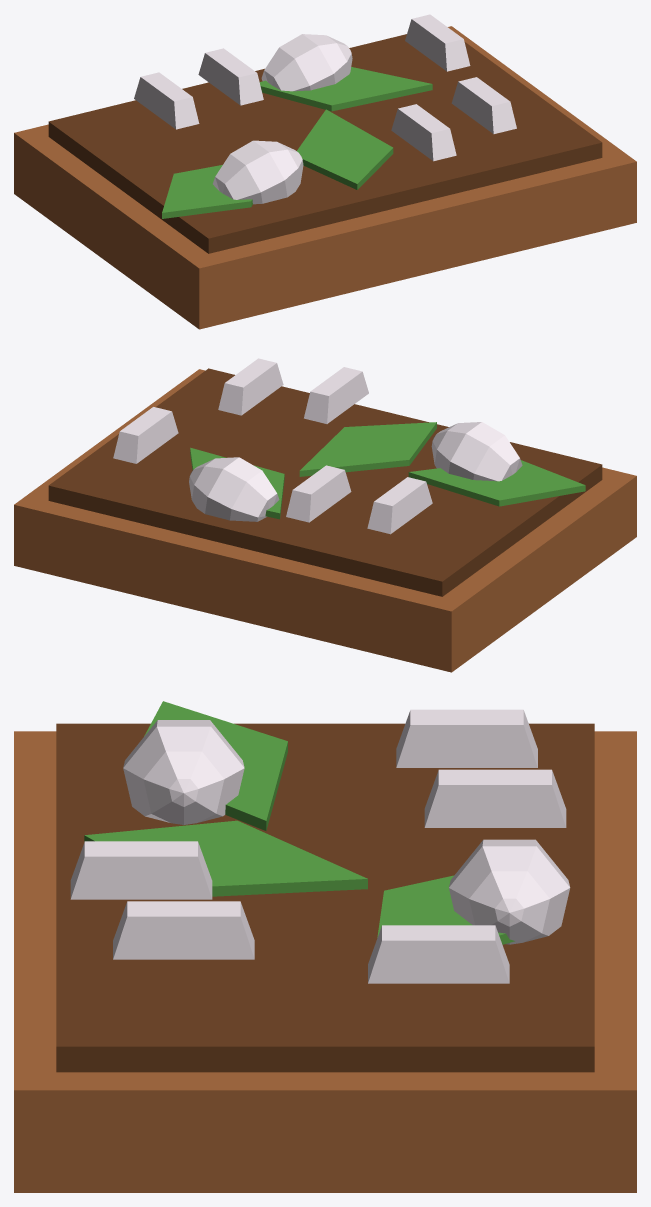
Rendered from silkworm.glb.
The picture shows the model from 3 angles, top to bottom: view 1: azimuth 30°, elevation 25°; view 2: azimuth 150°, elevation 25°; view 3: azimuth 270°, elevation 25°; orthographic projection. The views are drawn at different scales.
Parts seen in each view (by area): view 1: silkworm; view 2: silkworm; view 3: silkworm.
Boxes of the visible parts, x1,y1,x2,y2 form: silkworm: [14, 14, 636, 329]; silkworm: [14, 358, 636, 672]; silkworm: [14, 701, 636, 1192].
Size of the model in its own units: 0.45 by 0.117 by 0.33.
1 material, 1 textured.
